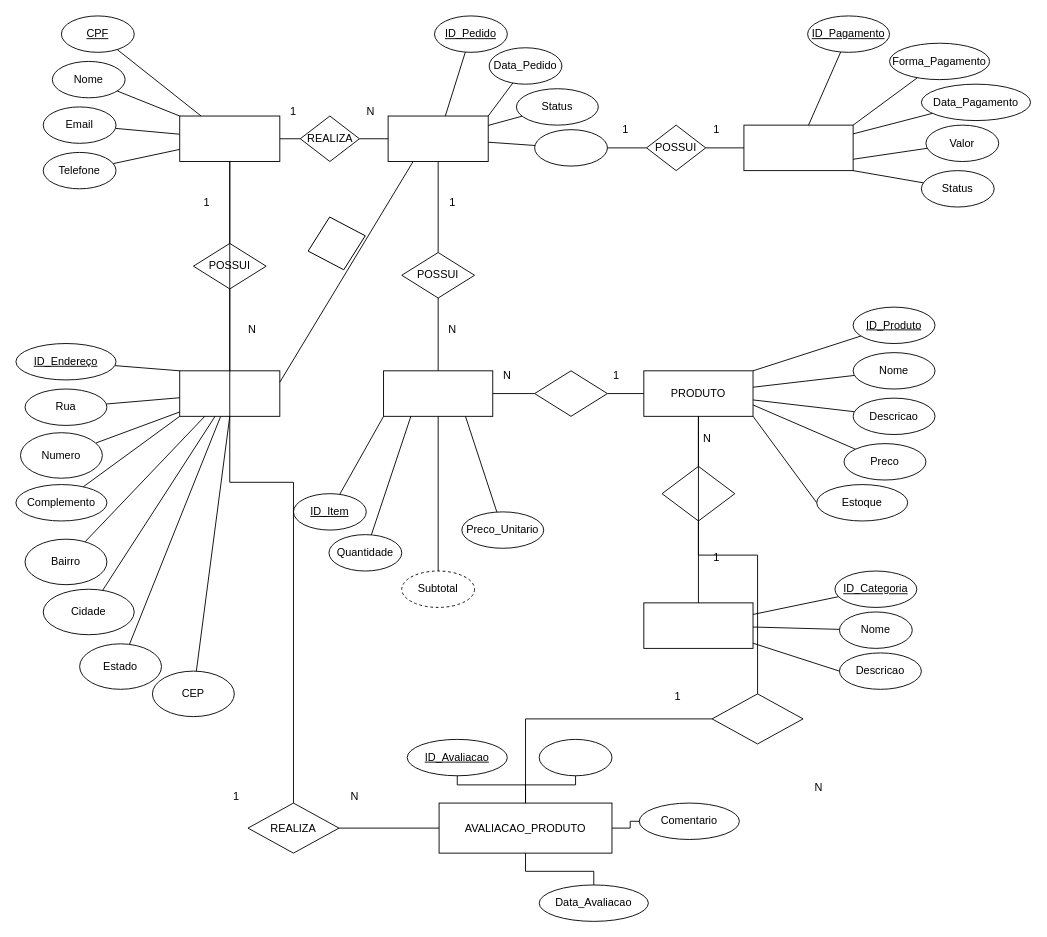
The diagram is 1047 pixels wide and 937 high, and some of its shapes have lost their labels. Here are the shapes that lost their labels. From the top down, the box of each, then its label:
(179, 115, 280, 162): CLIENTE
(387, 115, 488, 162): PEDIDO
(534, 129, 607, 166): Valor_Total
(743, 124, 853, 171): PAGAMENTO
(300, 208, 372, 278): UTILIZA
(179, 370, 280, 416): ENDEREÇO
(383, 370, 493, 416): ITEM_PEDIDO
(534, 370, 607, 416): REFERE-SE
(661, 465, 735, 521): PERTENCE
(643, 602, 753, 648): CATEGORIA
(711, 693, 803, 744): RECEBE
(538, 738, 612, 776): Nota
